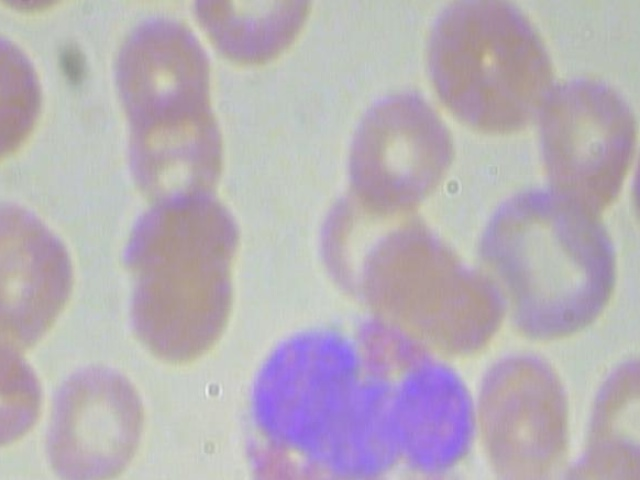RBC: (424, 0, 570, 150), (338, 73, 458, 214), (526, 69, 640, 210), (115, 240, 240, 366), (35, 355, 154, 480), (102, 13, 216, 127), (568, 352, 640, 480), (554, 430, 640, 480)
WBC: (232, 302, 489, 480)
